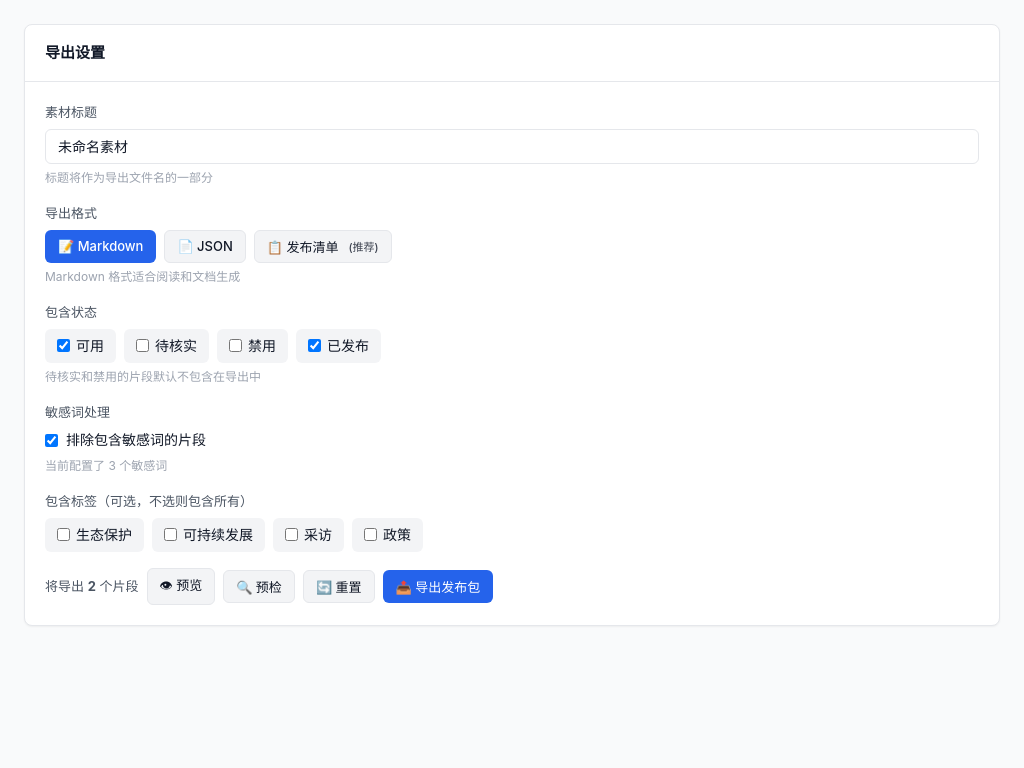
ExportView 界面交互测试 › 3. 状态筛选测试 › 3.2 添加待核实状态触发冲突警告
Click the checkbox with test id "export-exclude-sensitive". click: point(52, 440)
box: [45,434,58,447]
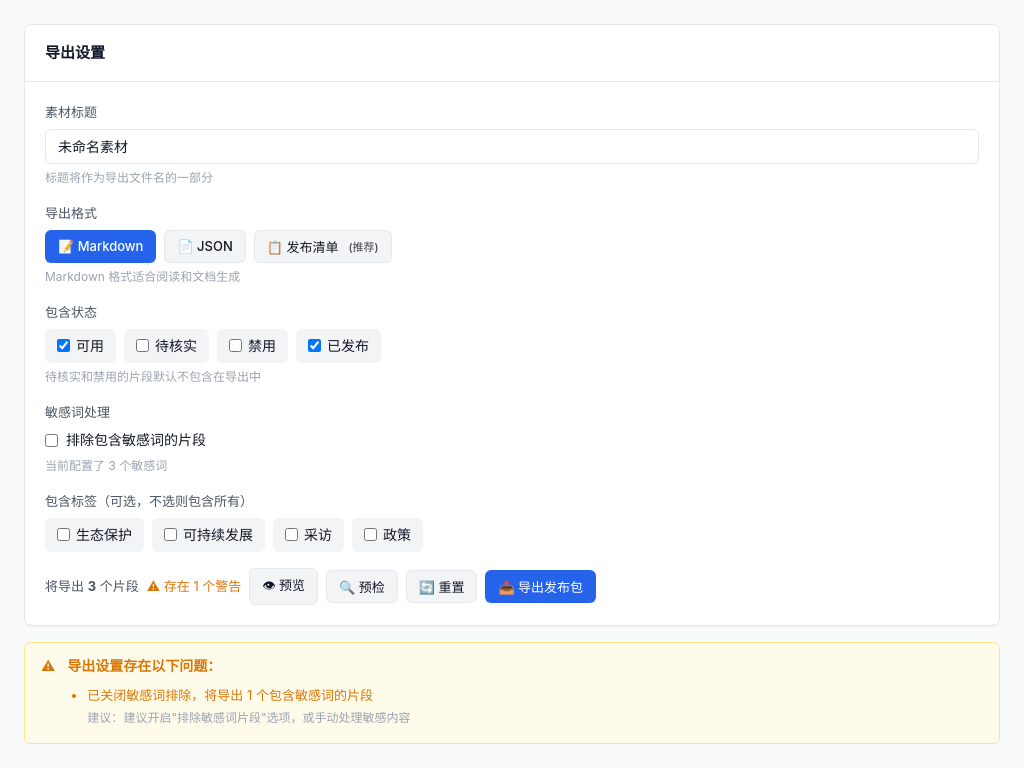
Click the checkbox with test id "export-status-pending". click: point(142, 346)
box: [136,340,149,352]
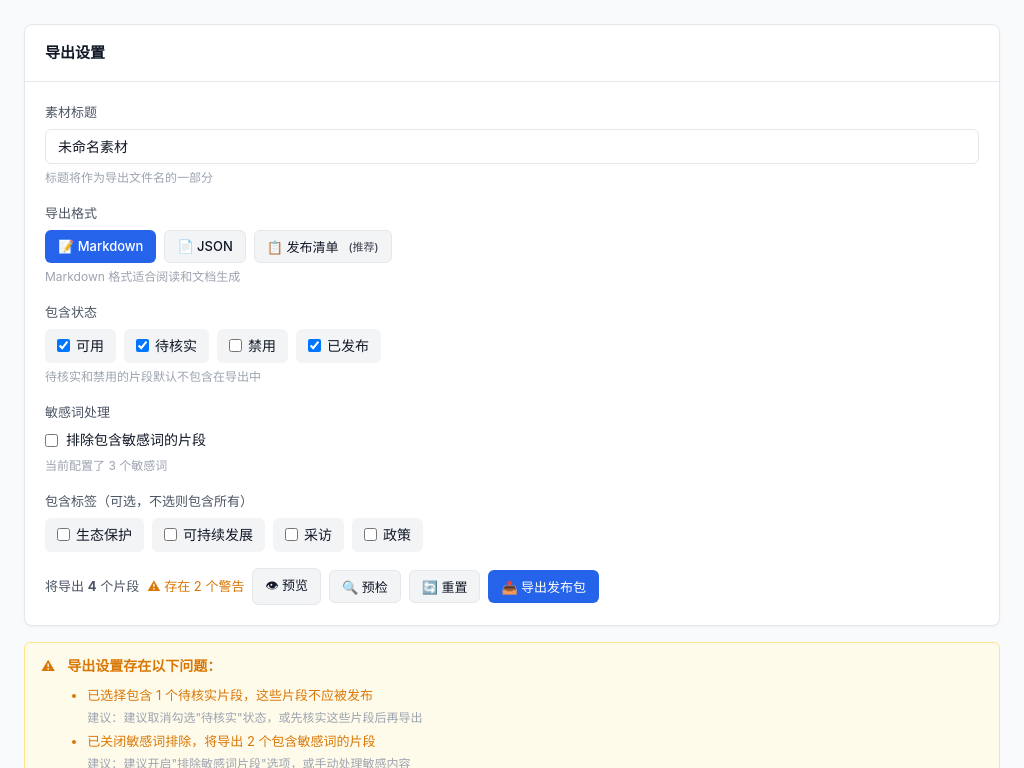
Check: the element with test id "export-conflict-alert" is shown, box [24,642,1000,767]
Check: the list item "已选择包含 1 个待核实片段，这些片段不应被发布 建议：建议取消勾选\"待核实\"状态，或先核实这些片段后再导出" is shown, box [87,685,423,727]
